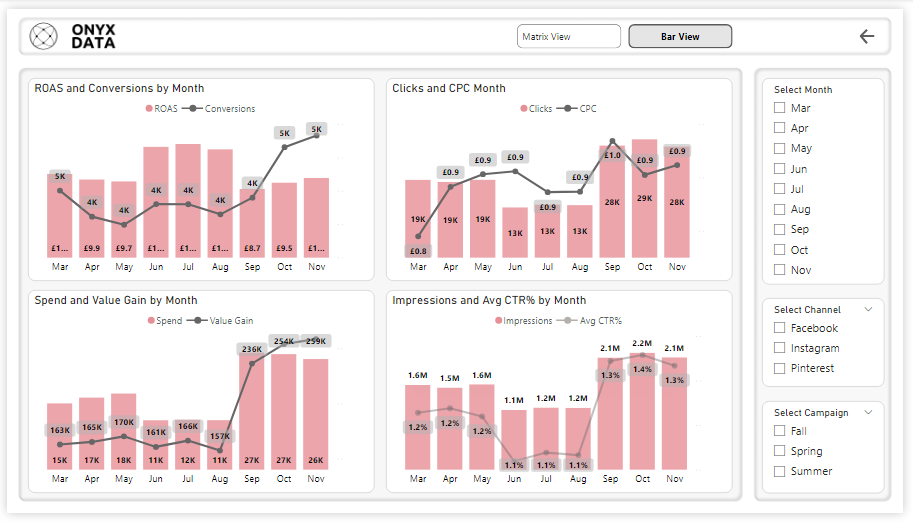

The page's visual inventory and layout, read from the dashboard file:
{"tool":"powerbi","page":{"name":"Matrix View","canvas":[1280,720],"ordinal":3},"visuals":[{"type":"slicer","fields":{"Values":["data.Mmm"]},"box":[1078.3,98.3,175,295],"z":0},{"type":"lineStackedColumnComboChart","title":"Clicks and CPC Month","fields":{"Category":["data.Mmm"],"Y":["Sum(data.Clicks)"],"Y2":["__Measures.CPC"]},"box":[541.7,98.3,495,290],"z":2000},{"type":"slicer","fields":{"Values":["data.Channel"]},"box":[1078.3,413.3,175,126.7],"z":3000},{"type":"lineStackedColumnComboChart","title":"ROAS and Conversions by Month","fields":{"Category":["data.Mmm"],"Y2":["__Measures.Conversions"],"Y":["__Measures.Revenue on Ad Spend (ROAS)"]},"box":[30,98.3,495,290],"z":4000},{"type":"slicer","fields":{"Values":["data.Campaign"]},"box":[1078.3,560,175,131.7],"z":5000},{"type":"lineStackedColumnComboChart","title":"Impressions and Avg CTR% by Month","fields":{"Category":["data.Mmm"],"Y2":["__Measures.Avg CTR%"],"Y":["__Measures.Impressions"]},"box":[541.7,401.7,495,290],"z":6000},{"type":"lineStackedColumnComboChart","title":"Spend and Value Gain by Month","fields":{"Category":["data.Mmm"],"Y2":["Sum(data.Value Gain)"],"Y":["Sum(data.Spend, GBP)"]},"box":[30,401.7,495,290],"z":7000},{"type":"bookmarkNavigator","box":[729.2,21.4,309.7,35.7],"z":8000},{"type":"actionButton","box":[1214,24,30,30],"z":9000}]}

Visuals, with their boxes in screenshot pixels (x1, y1, x2, y2), scaled from the page's 1280x720 canvas onto the 913x524 screenshot:
slicer - data.Mmm: pyautogui.locateOnScreen(769, 72, 894, 286)
"Clicks and CPC Month" lineStackedColumnComboChart: pyautogui.locateOnScreen(386, 72, 739, 283)
slicer - data.Channel: pyautogui.locateOnScreen(769, 301, 894, 393)
"ROAS and Conversions by Month" lineStackedColumnComboChart: pyautogui.locateOnScreen(21, 72, 374, 283)
slicer - data.Campaign: pyautogui.locateOnScreen(769, 408, 894, 503)
"Impressions and Avg CTR% by Month" lineStackedColumnComboChart: pyautogui.locateOnScreen(386, 292, 739, 503)
"Spend and Value Gain by Month" lineStackedColumnComboChart: pyautogui.locateOnScreen(21, 292, 374, 503)
bookmarkNavigator: pyautogui.locateOnScreen(520, 16, 741, 42)
actionButton: pyautogui.locateOnScreen(866, 17, 887, 39)
